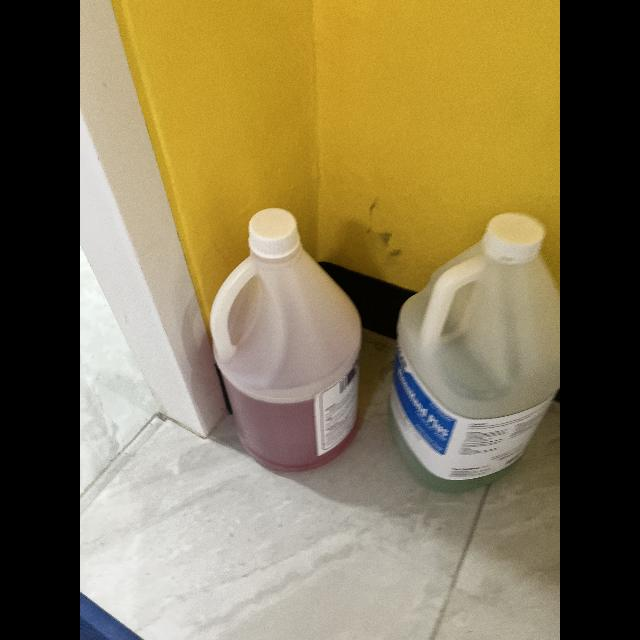chemical_plastic_gallon: (386, 204, 560, 500), (204, 197, 368, 477)
